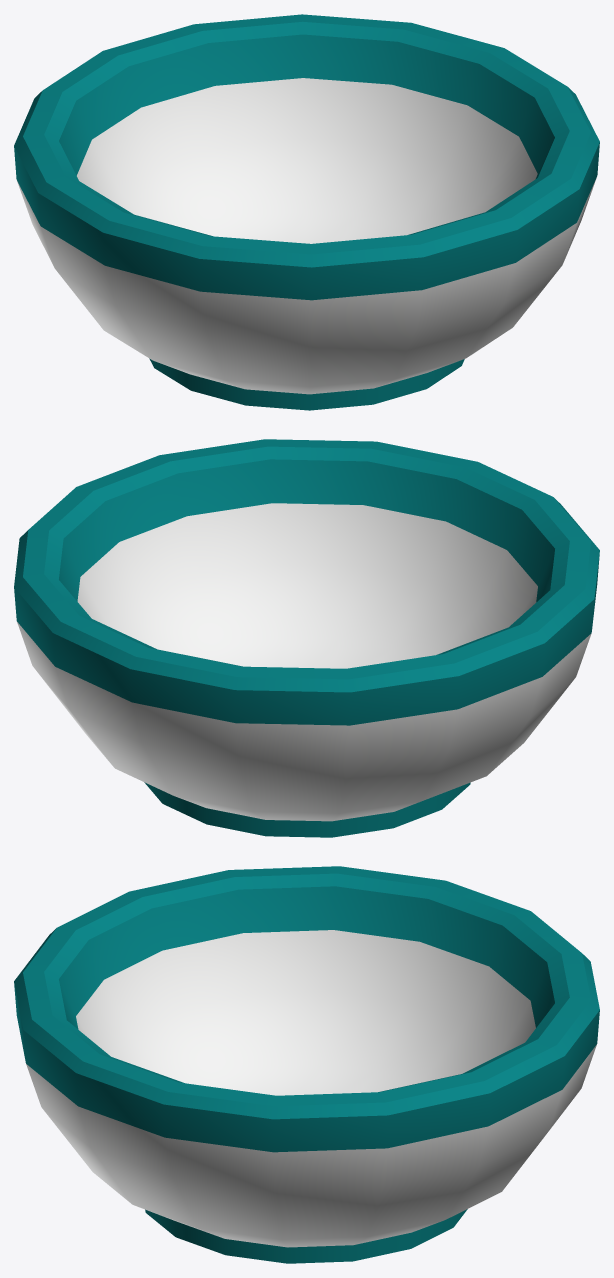
Rendered from Bowl_1_F.glb.
3 renders of one model, top to bottom at view 1: azimuth 30°, elevation 25°; view 2: azimuth 150°, elevation 25°; view 3: azimuth 270°, elevation 25°, orthographic.
Parts seen in each view (by area): view 1: Bowl_1_F; view 2: Bowl_1_F; view 3: Bowl_1_F.
Part boxes in pixels (<box>): Bowl_1_F: <box>14,14,599,410</box>; Bowl_1_F: <box>14,439,599,837</box>; Bowl_1_F: <box>14,866,599,1263</box>.
Bounding box in the file's own units: 0.4119 × 0.1643 × 0.4119.
Materials: 1 (1 with a texture image).
